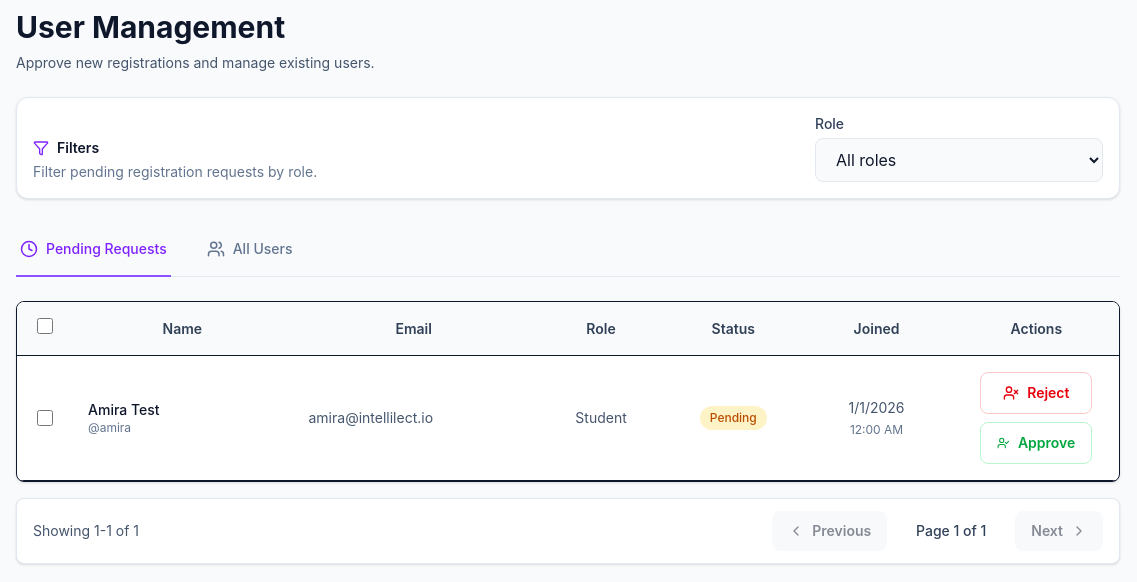
Test case: AdminDashboard bulk selection › renders no checkbox column on the all-users tab
The image size is (1137, 582).
Expected: the text "Amira Test" is shown, x1=88 y1=401 x2=160 y2=418
Step 1. Click the button "All Users" → (250, 250), box x1=203 y1=223 x2=296 y2=277
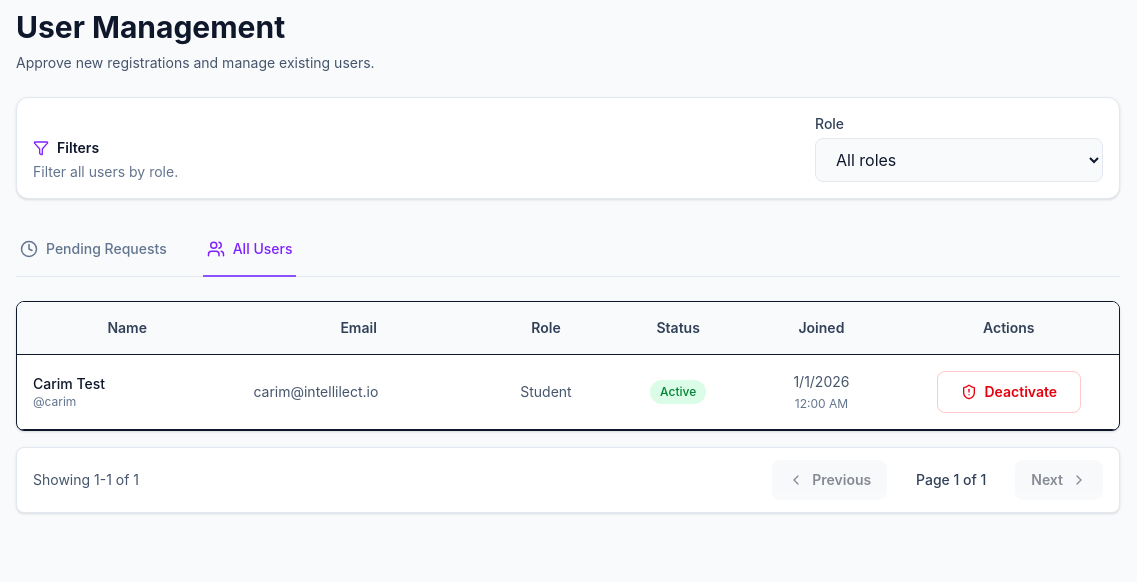
Now no checkboxes are shown
